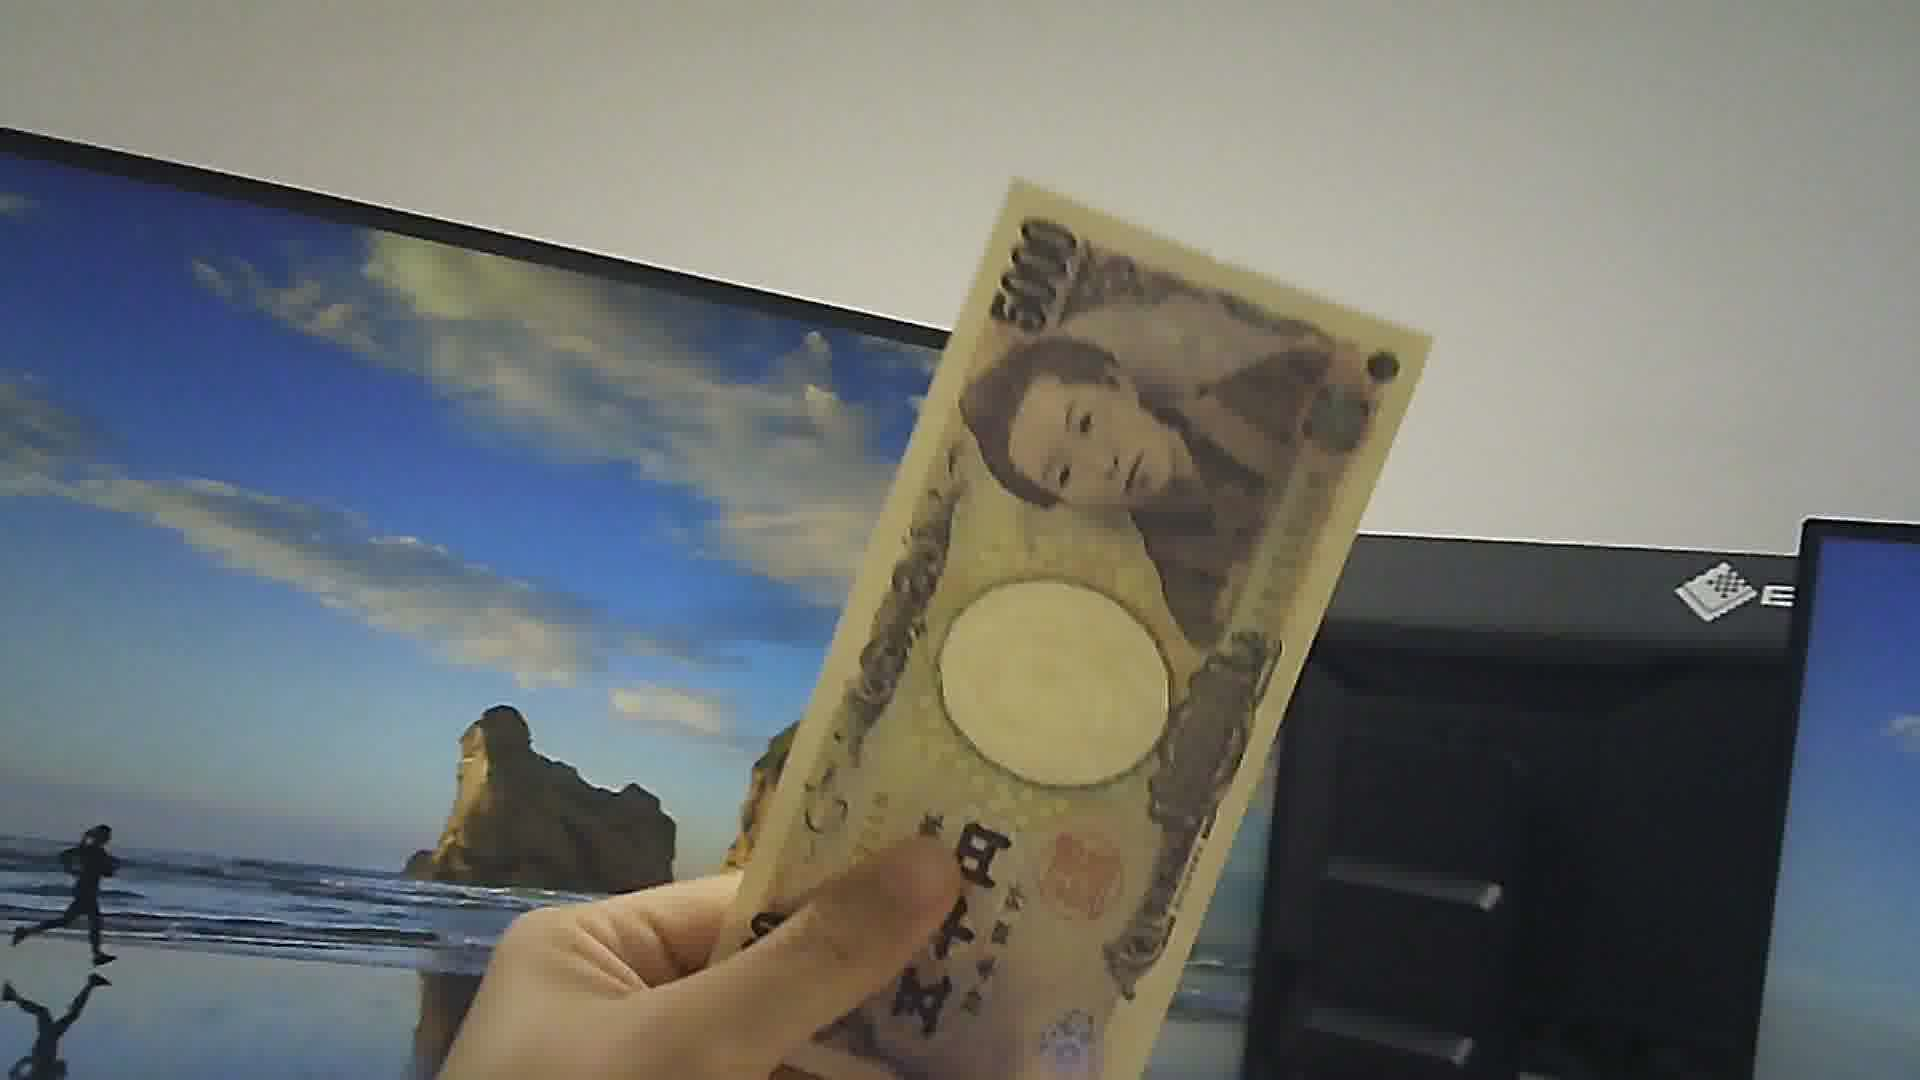5,000 Yen: (741, 174, 1423, 1079)
